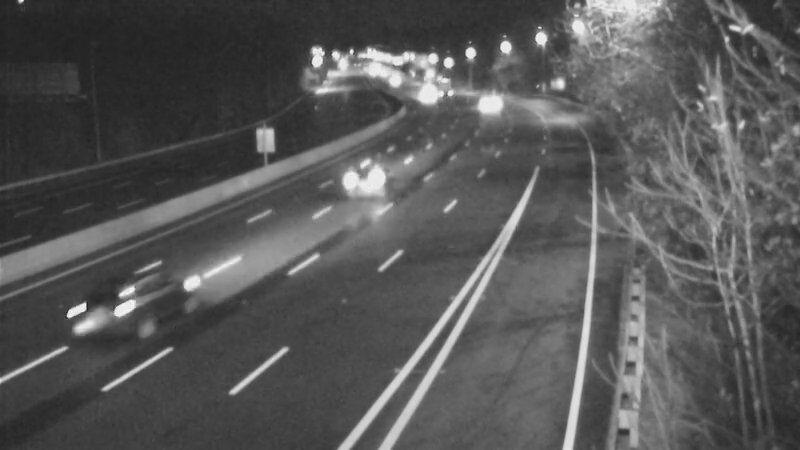vehicle: (68, 261, 178, 371), (328, 136, 408, 216), (364, 54, 414, 104), (417, 63, 467, 113), (401, 72, 451, 122), (468, 75, 518, 125)
